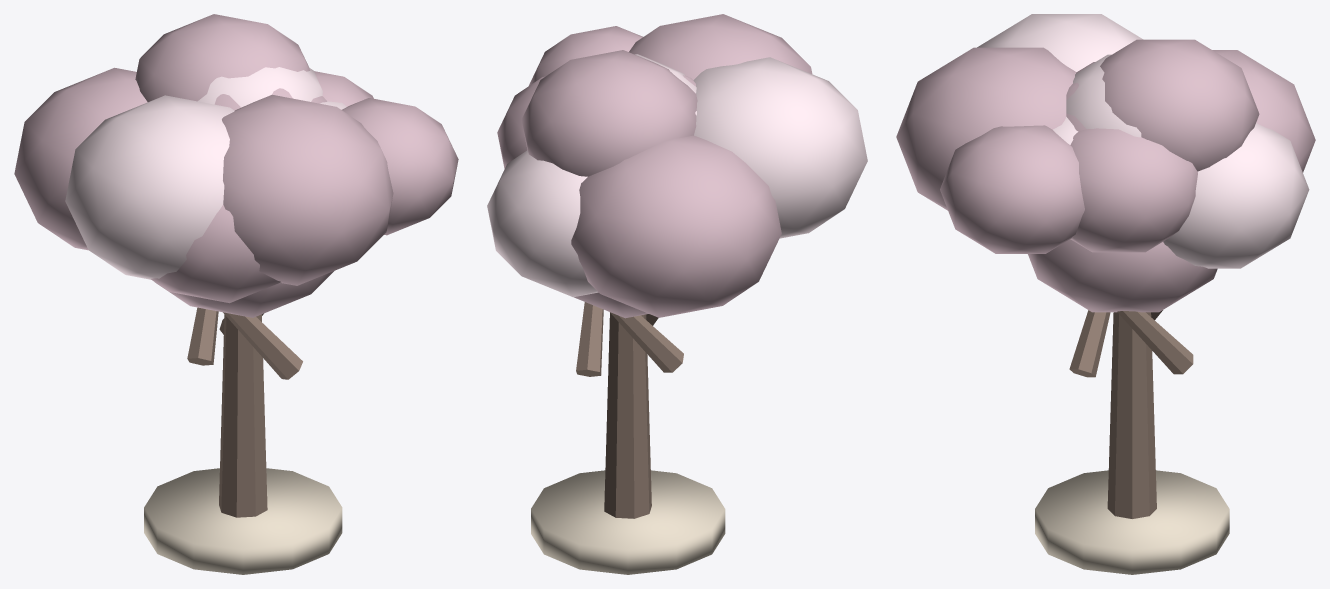
Rendered from blossom.glb.
The picture shows the model from 3 angles, left to right: view 1: azimuth 30°, elevation 25°; view 2: azimuth 150°, elevation 25°; view 3: azimuth 270°, elevation 25°; orthographic projection. The views are drawn at different scales.
Parts seen in each view (by area): view 1: blossom; view 2: blossom; view 3: blossom.
Boxes of the visible parts, x1,y1,x2,y2 form: blossom: [14, 14, 458, 574]; blossom: [487, 14, 867, 574]; blossom: [896, 14, 1315, 574].
Size of the model in its own units: 1.66 by 2.32 by 1.81.
